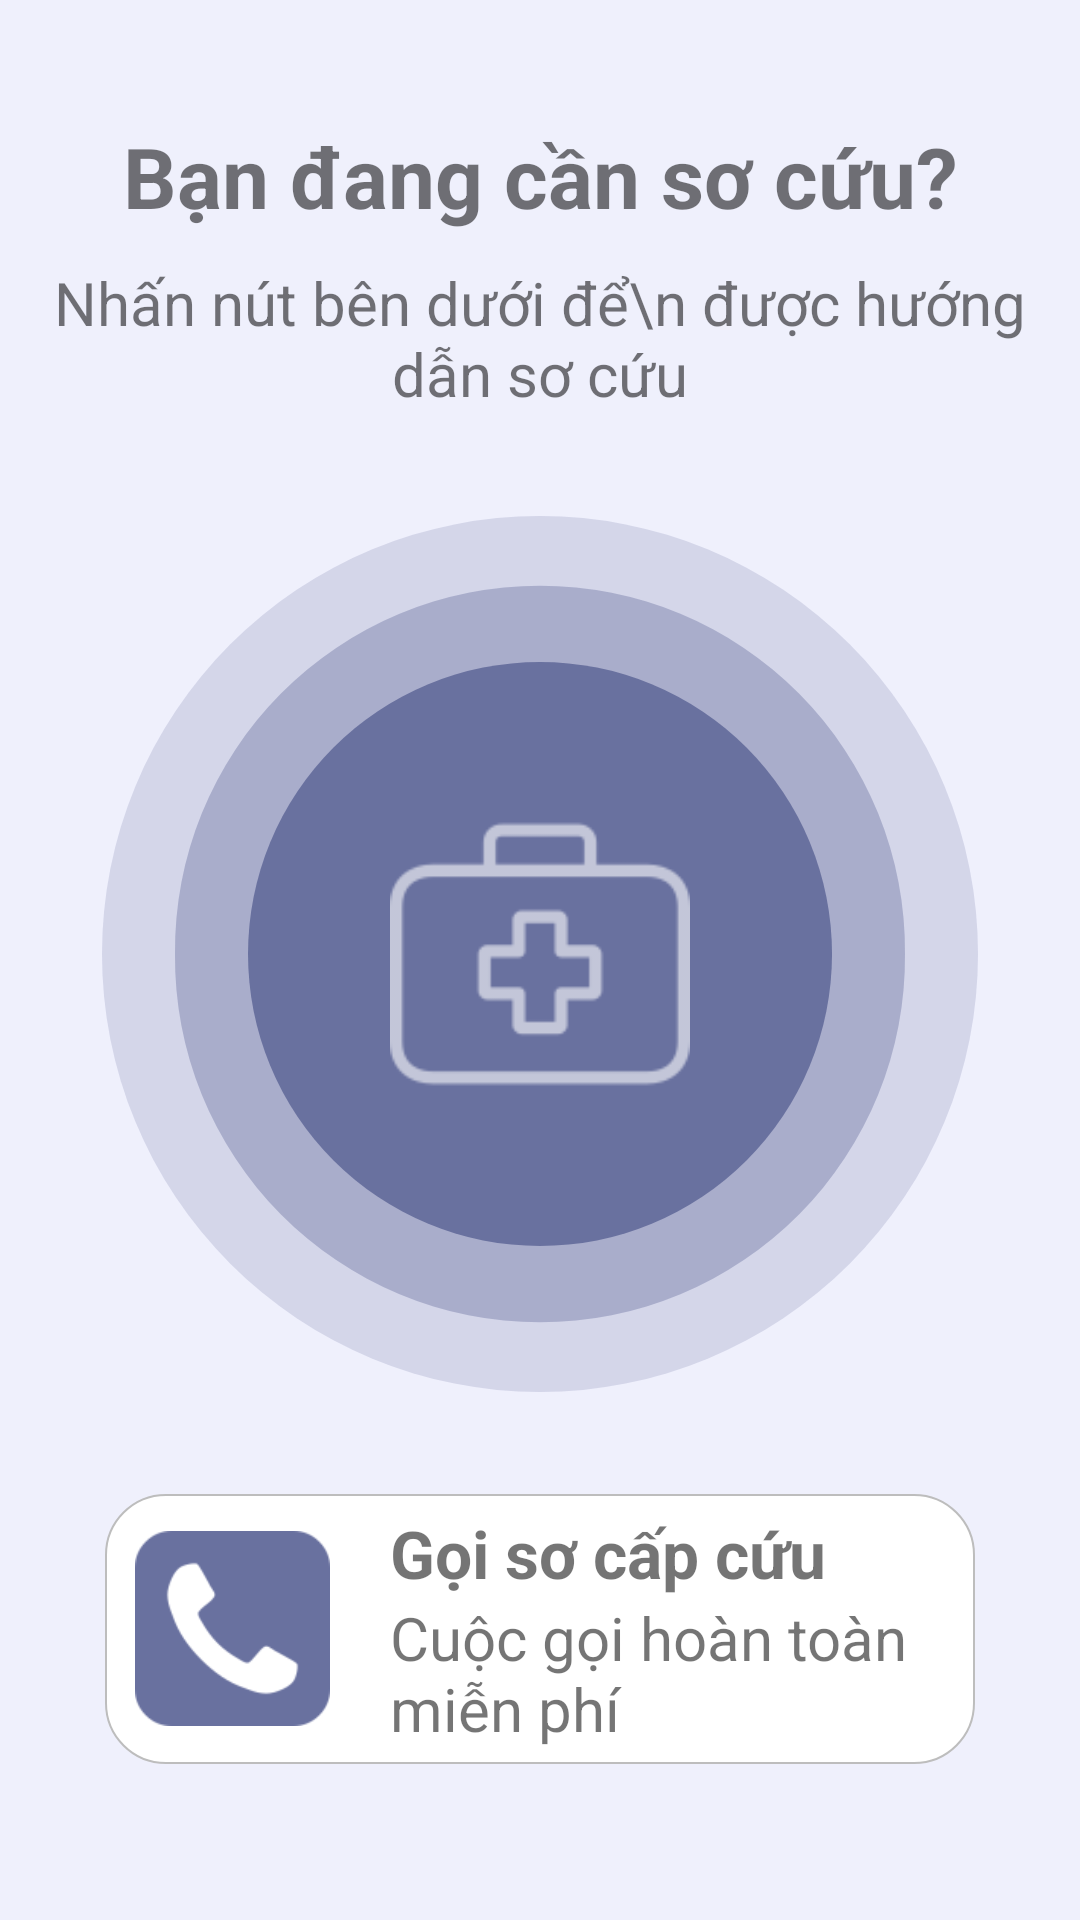

Named icons in this screenshot (1080×1920) and their bounding boxes, (x1, y1, x2, y2):
first aid kit: (390, 823, 690, 1085)
telephone symbol: (135, 1531, 330, 1726)
